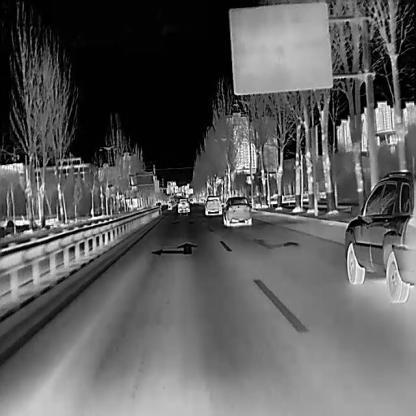car: (344, 169, 416, 303), (222, 195, 251, 226), (203, 194, 221, 215), (177, 197, 188, 213)
